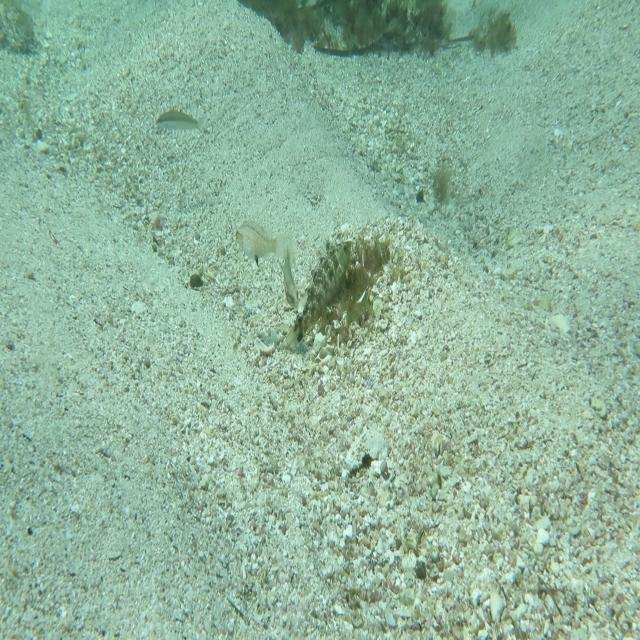Coris_julis_female: (153, 106, 209, 139)
ROLL: (280, 224, 356, 356)
female: (276, 239, 300, 315)
nest: (304, 222, 401, 338)
other_fish: (230, 214, 291, 268)
